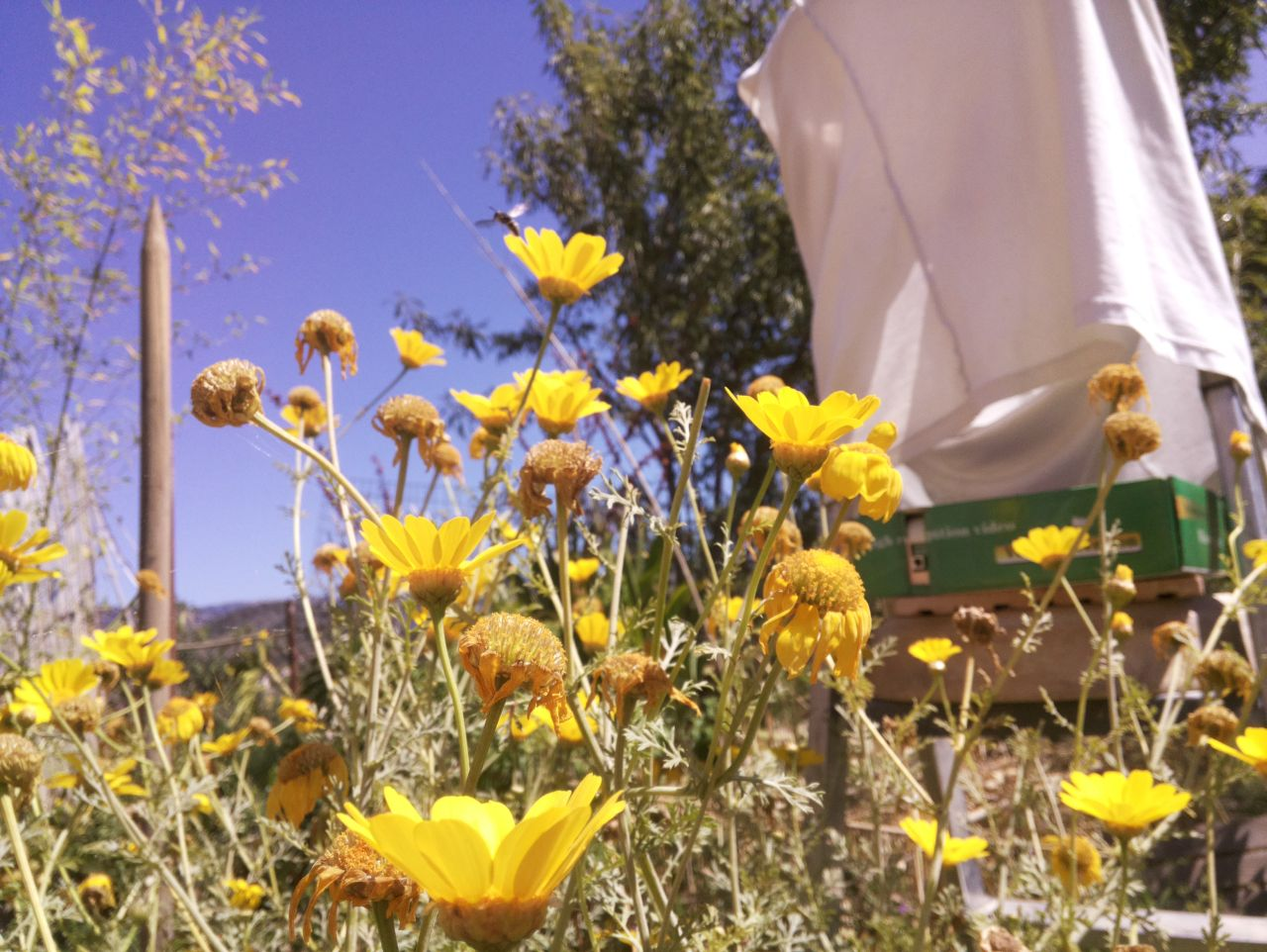Unidentified insect: (473, 198, 542, 255)
